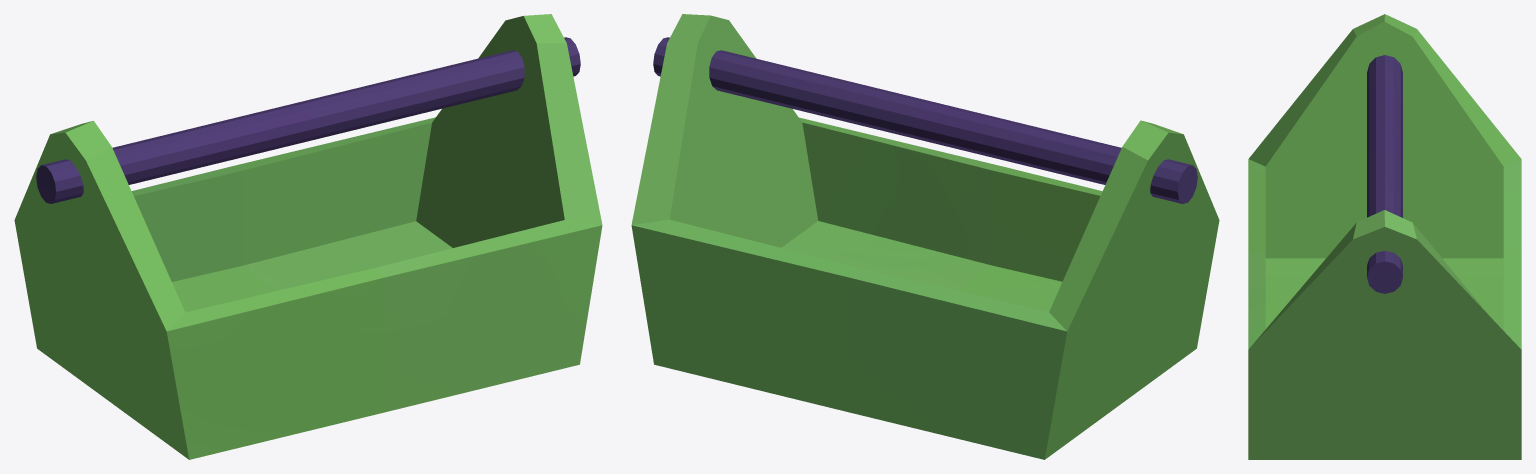
The model's file is CajaAzul.FBX.
3 renders of one model, left to right at view 1: azimuth 30°, elevation 25°; view 2: azimuth 150°, elevation 25°; view 3: azimuth 270°, elevation 25°, orthographic. The views are drawn at different scales.
Visible parts, largest first — view 1: CajaAzul; view 2: CajaAzul; view 3: CajaAzul.
Boxes of the visible parts, box(x1,y1,x2,y2) form: CajaAzul: box(14, 14, 602, 459); CajaAzul: box(631, 14, 1219, 459); CajaAzul: box(1248, 14, 1521, 459).
Bounding box in the file's own units: 38.84 × 20.42 × 19.52.
